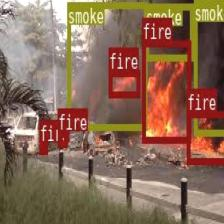fire: (141, 39, 191, 142), (186, 111, 224, 162), (108, 70, 140, 97), (58, 130, 66, 146), (39, 142, 47, 154)
smoke: (66, 2, 146, 130), (193, 0, 224, 134), (144, 2, 193, 59)
